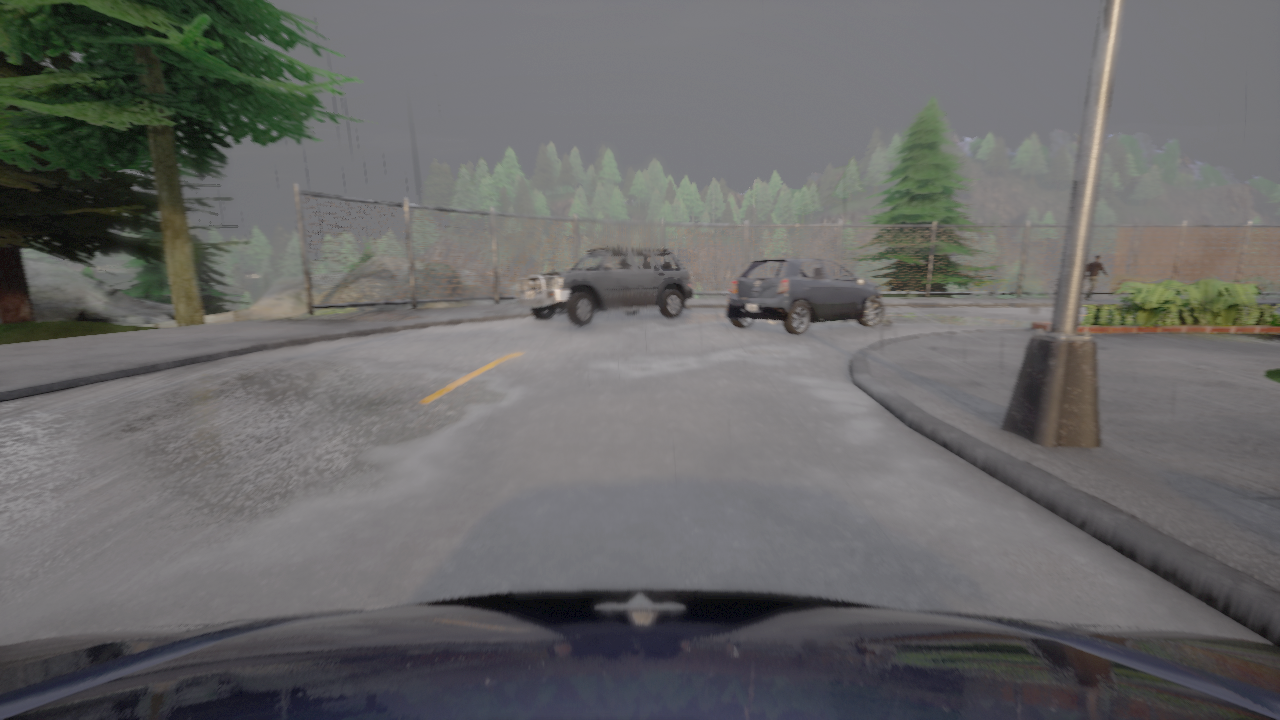cyclist: (0, 588, 1279, 719), (516, 244, 693, 326), (726, 258, 884, 334)
pedestrian: (1083, 254, 1107, 300)
